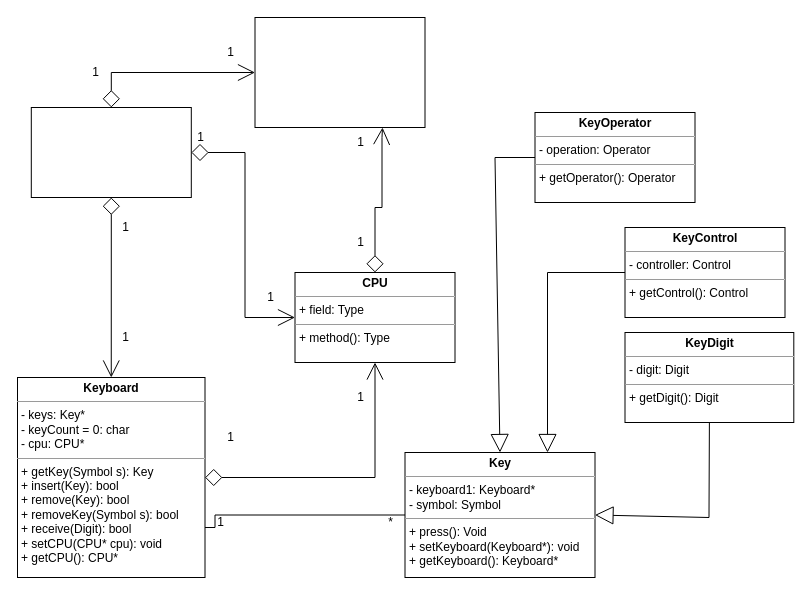
Some shapes in this 812 by 595 pixel diagram are drawn without their labels. Here are the shapes that lost their labels. From the top down, the box of each, then its label:
(254, 16, 425, 128): Display + add(Digit): Void + setDecimalOperator(): Void + clear() : Void
(30, 106, 191, 198): Calculator + field: Type + method(): Type
